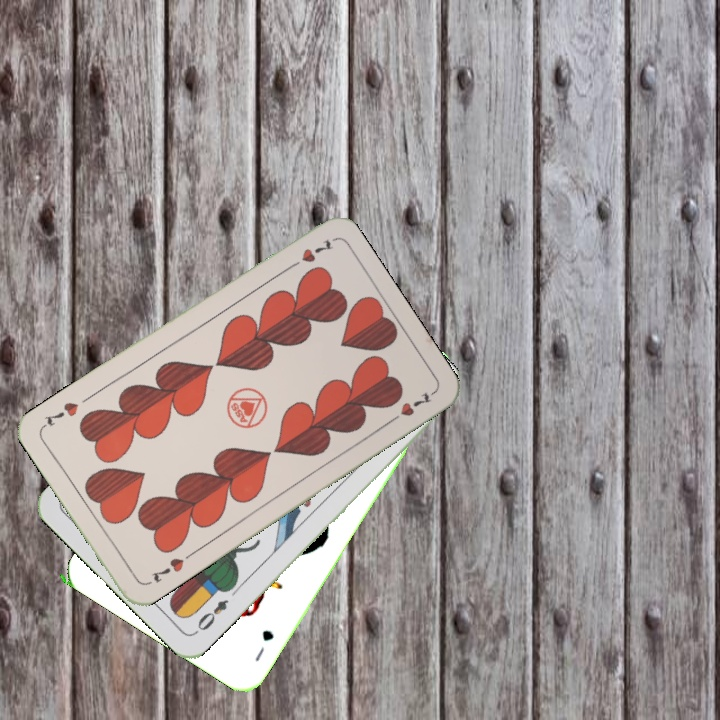EO: (191, 595, 231, 637)
GU: (250, 625, 277, 664)
H7: (283, 235, 335, 273), (147, 553, 187, 585)
